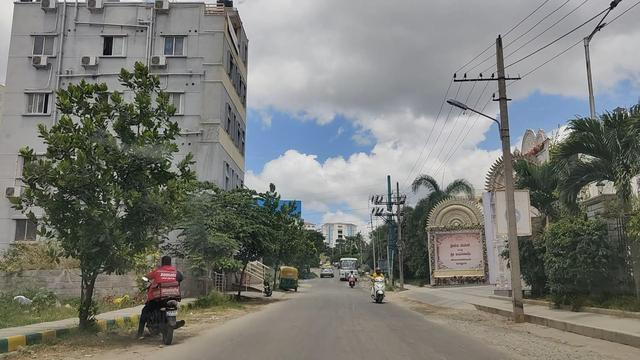LMV: (136, 251, 188, 351)
RoadDamages: (419, 319, 529, 360)
